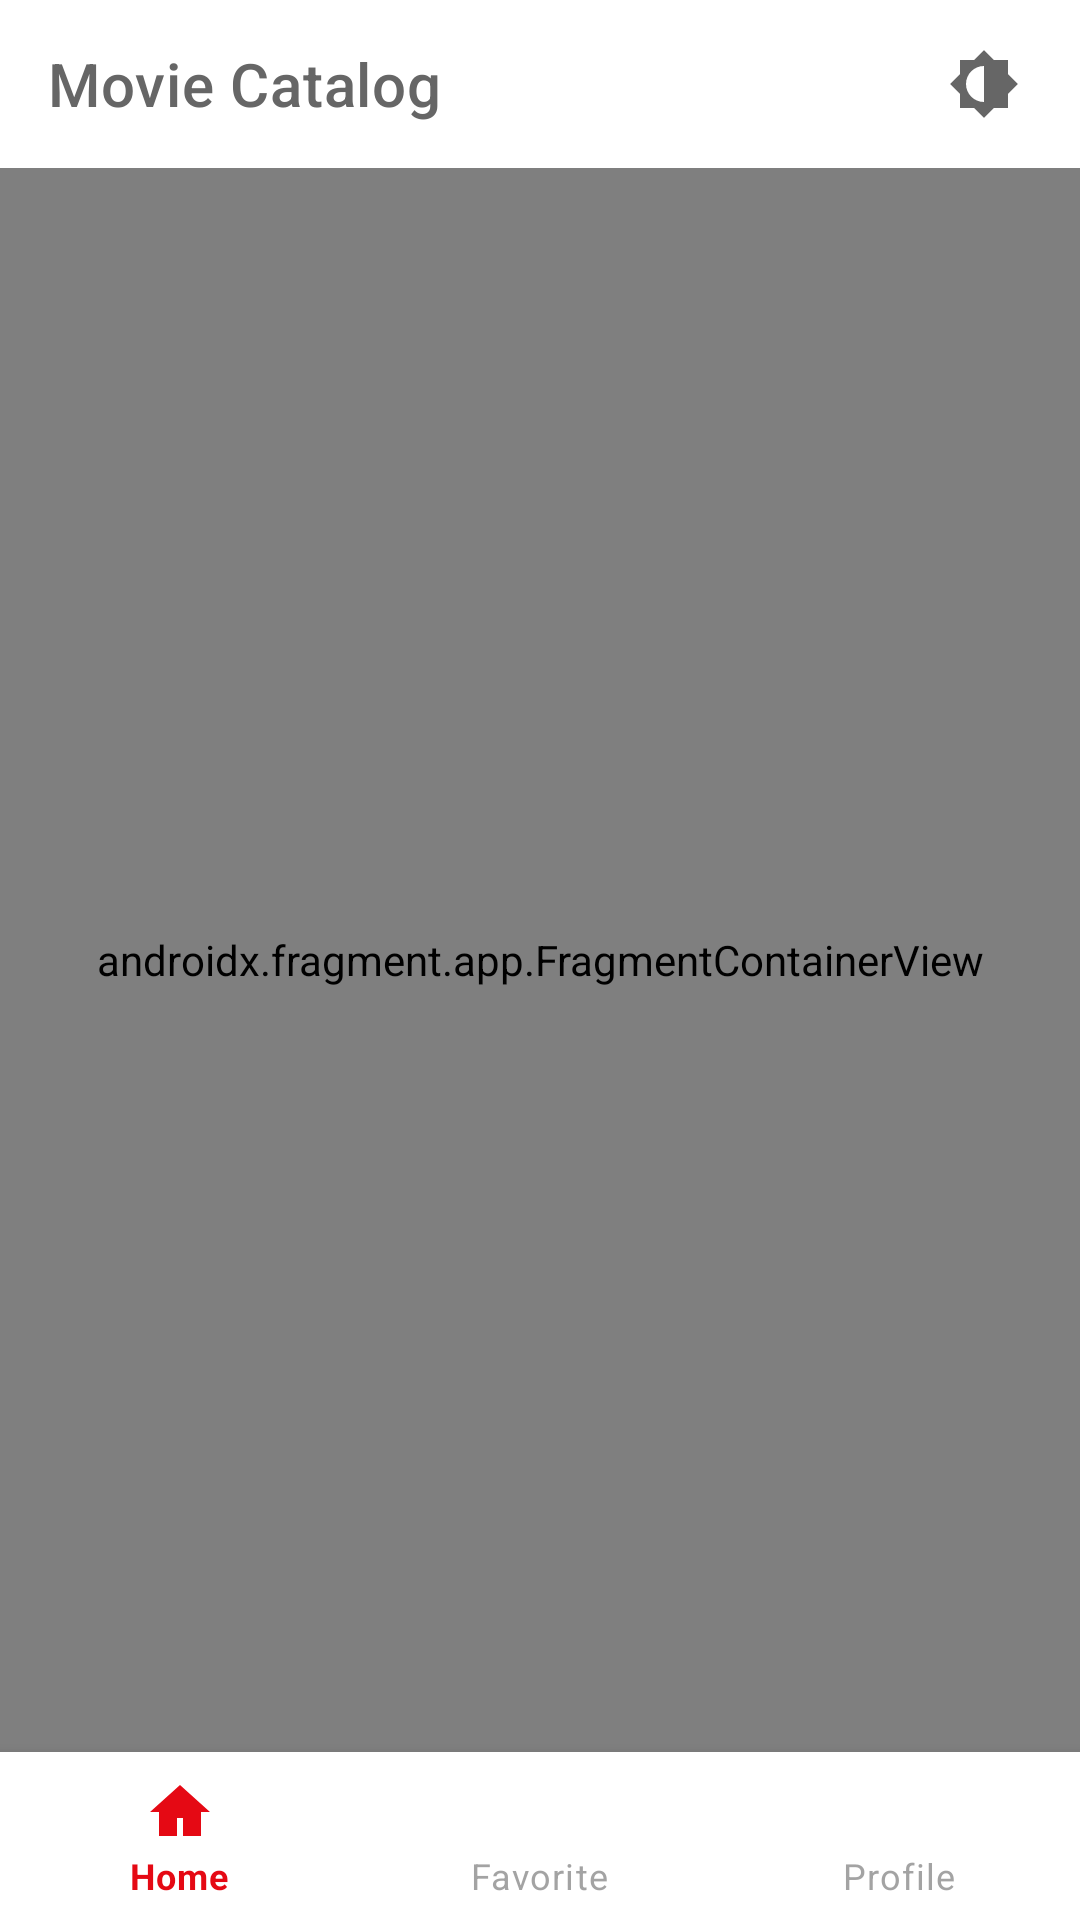

Locate icon controls on the screen. Image size 1080 × 1920, boxes as (x1, y1, x2, y2).
Ganti Tema: (950, 50, 1018, 118)
